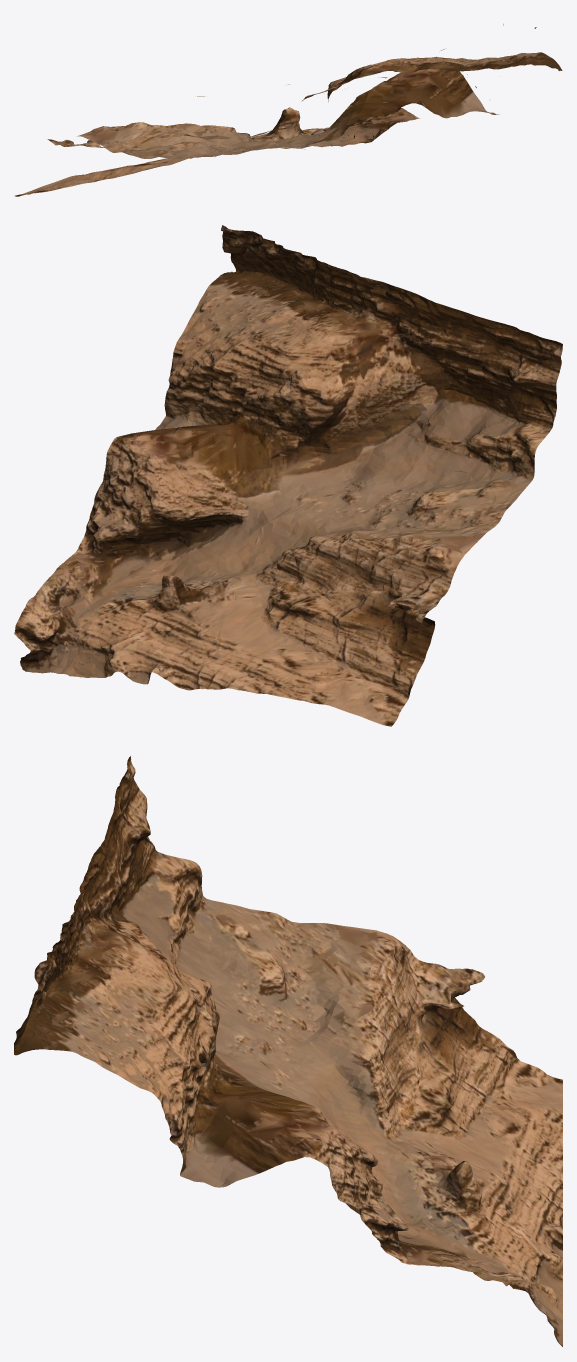
3 views of the same model, one above another, from view 1: azimuth 30°, elevation 25°; view 2: azimuth 150°, elevation 25°; view 3: azimuth 270°, elevation 25° (orthographic). The views are drawn at different scales.
Bounding box in the file's own units: 2.09 × 1.54 × 2.09.
3 materials, 3 textured.
